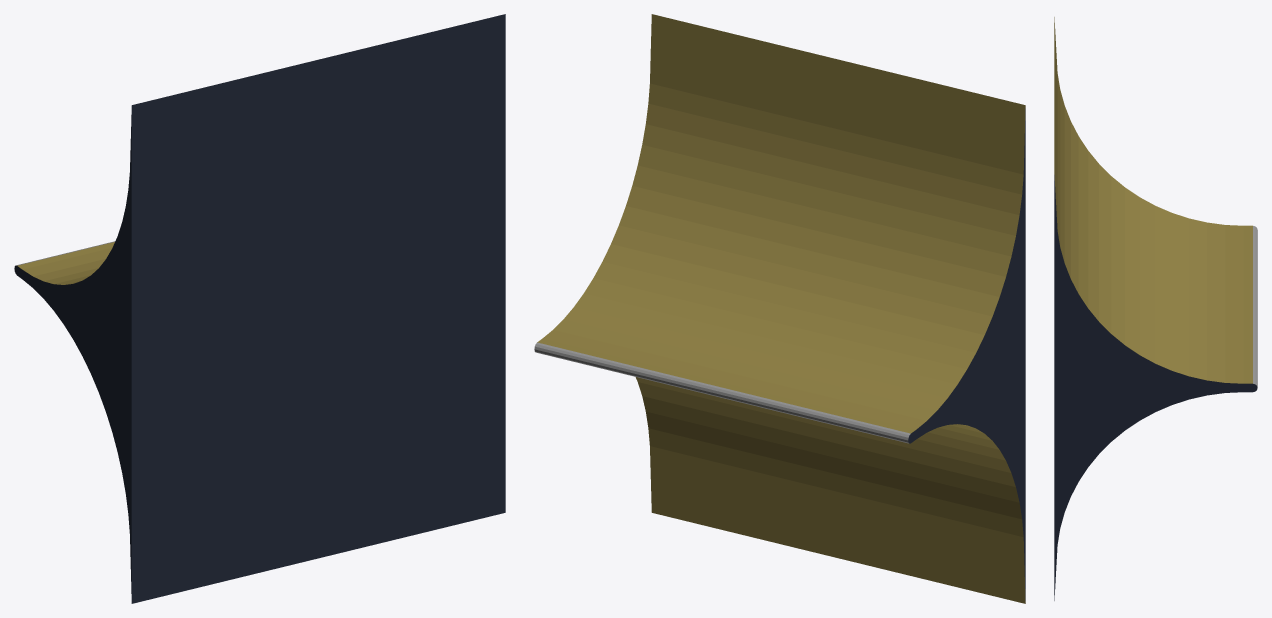
File: Quarterpipe Spine.fbx
3 views of the same model, side by side, from view 1: azimuth 30°, elevation 25°; view 2: azimuth 150°, elevation 25°; view 3: azimuth 270°, elevation 25° (orthographic). The views are drawn at different scales.
Parts seen in each view (by area): view 1: Quarterpipe Spine; view 2: Quarterpipe Spine; view 3: Quarterpipe Spine.
Boxes of the visible parts, <box> form: Quarterpipe Spine: <box>14,14,505,603</box>; Quarterpipe Spine: <box>534,14,1025,603</box>; Quarterpipe Spine: <box>1054,17,1257,600</box>.
Bounding box in the file's own units: 1600 × 2040 × 870.
